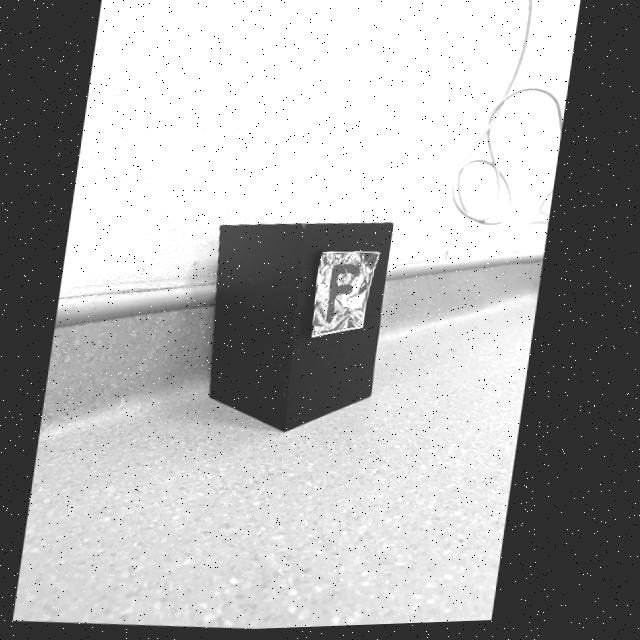F: (332, 266, 362, 325)
